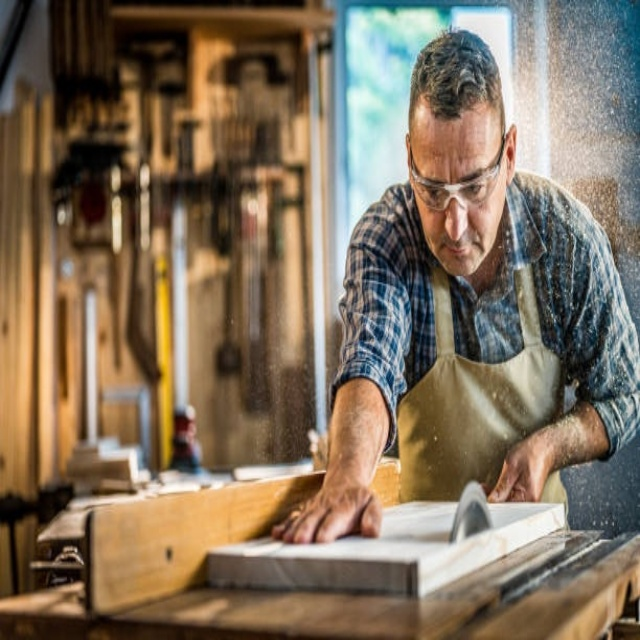Gafas: (409, 129, 505, 210)
Sin_guantes: (272, 485, 381, 543), (488, 430, 555, 504)
Sin_mascara: (437, 234, 483, 275)
